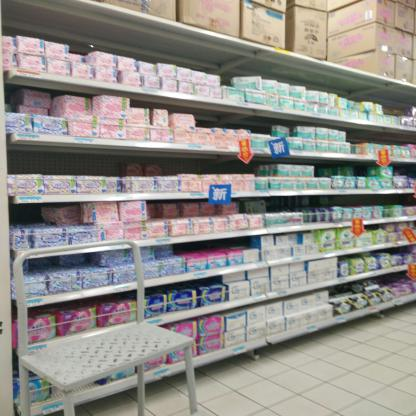Void: (6, 145, 254, 171), (202, 101, 276, 130), (17, 201, 88, 225), (21, 258, 104, 270), (176, 239, 254, 250)
